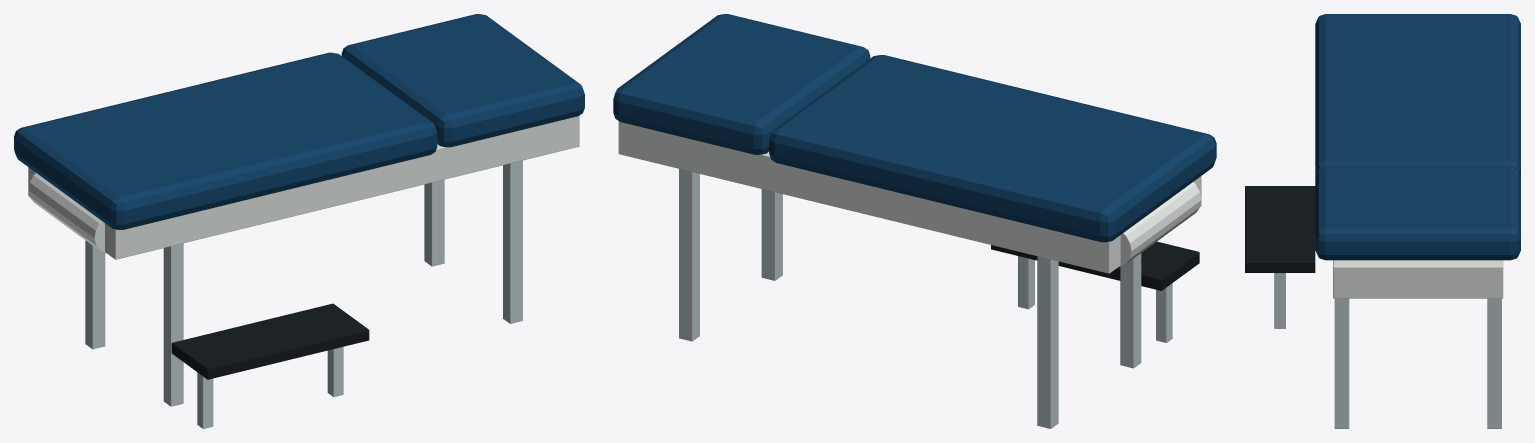
3 renders of one model, left to right at view 1: azimuth 30°, elevation 25°; view 2: azimuth 150°, elevation 25°; view 3: azimuth 270°, elevation 25°, orthographic. The views are drawn at different scales.
Parts seen in each view (by area): view 1: COUCH_Seat, BACK_Cushion, FRAME, STEP, FRAME_Leg.002, FRAME_Leg, PAPER_Roll, FRAME_Leg.001, FRAME_Leg.003, STEP_Foot, STEP_Foot.001; view 2: COUCH_Seat, BACK_Cushion, FRAME, FRAME_Leg.001, FRAME_Leg.003, PAPER_Roll, STEP, FRAME_Leg, FRAME_Leg.002, STEP_Foot, STEP_Foot.001; view 3: COUCH_Seat, BACK_Cushion, FRAME, STEP, FRAME_Leg.002, FRAME_Leg.003, STEP_Foot.001.
Part boxes in pixels (x1=…): COUCH_Seat: x1=14, y1=52, x2=437, y2=229; BACK_Cushion: x1=341, y1=14, x2=584, y2=147; FRAME: x1=28, y1=115, x2=579, y2=259; STEP: x1=171, y1=303, x2=369, y2=379; FRAME_Leg.002: x1=503, y1=160, x2=522, y2=323; FRAME_Leg: x1=163, y1=243, x2=183, y2=406; PAPER_Roll: x1=28, y1=173, x2=105, y2=253; FRAME_Leg.001: x1=85, y1=240, x2=105, y2=349; FRAME_Leg.003: x1=424, y1=179, x2=444, y2=266; STEP_Foot: x1=197, y1=372, x2=213, y2=428; STEP_Foot.001: x1=327, y1=346, x2=343, y2=396; COUCH_Seat: x1=769, y1=55, x2=1216, y2=242; BACK_Cushion: x1=613, y1=14, x2=870, y2=154; FRAME: x1=618, y1=121, x2=1201, y2=273; FRAME_Leg.001: x1=1037, y1=256, x2=1058, y2=428; FRAME_Leg.003: x1=679, y1=169, x2=699, y2=341; PAPER_Roll: x1=1119, y1=182, x2=1201, y2=266; STEP: x1=991, y1=241, x2=1199, y2=290; FRAME_Leg: x1=1120, y1=253, x2=1141, y2=368; FRAME_Leg.002: x1=761, y1=189, x2=782, y2=280; STEP_Foot: x1=1156, y1=283, x2=1172, y2=342; STEP_Foot.001: x1=1018, y1=256, x2=1034, y2=309; COUCH_Seat: x1=1315, y1=14, x2=1520, y2=176; BACK_Cushion: x1=1315, y1=167, x2=1520, y2=260; FRAME: x1=1333, y1=260, x2=1503, y2=298; STEP: x1=1245, y1=186, x2=1315, y2=272; FRAME_Leg.002: x1=1334, y1=298, x2=1349, y2=428; FRAME_Leg.003: x1=1487, y1=298, x2=1501, y2=428; STEP_Foot.001: x1=1274, y1=273, x2=1285, y2=328.
Bounding box in the file's own units: 1.82 × 0.84 × 0.94.
